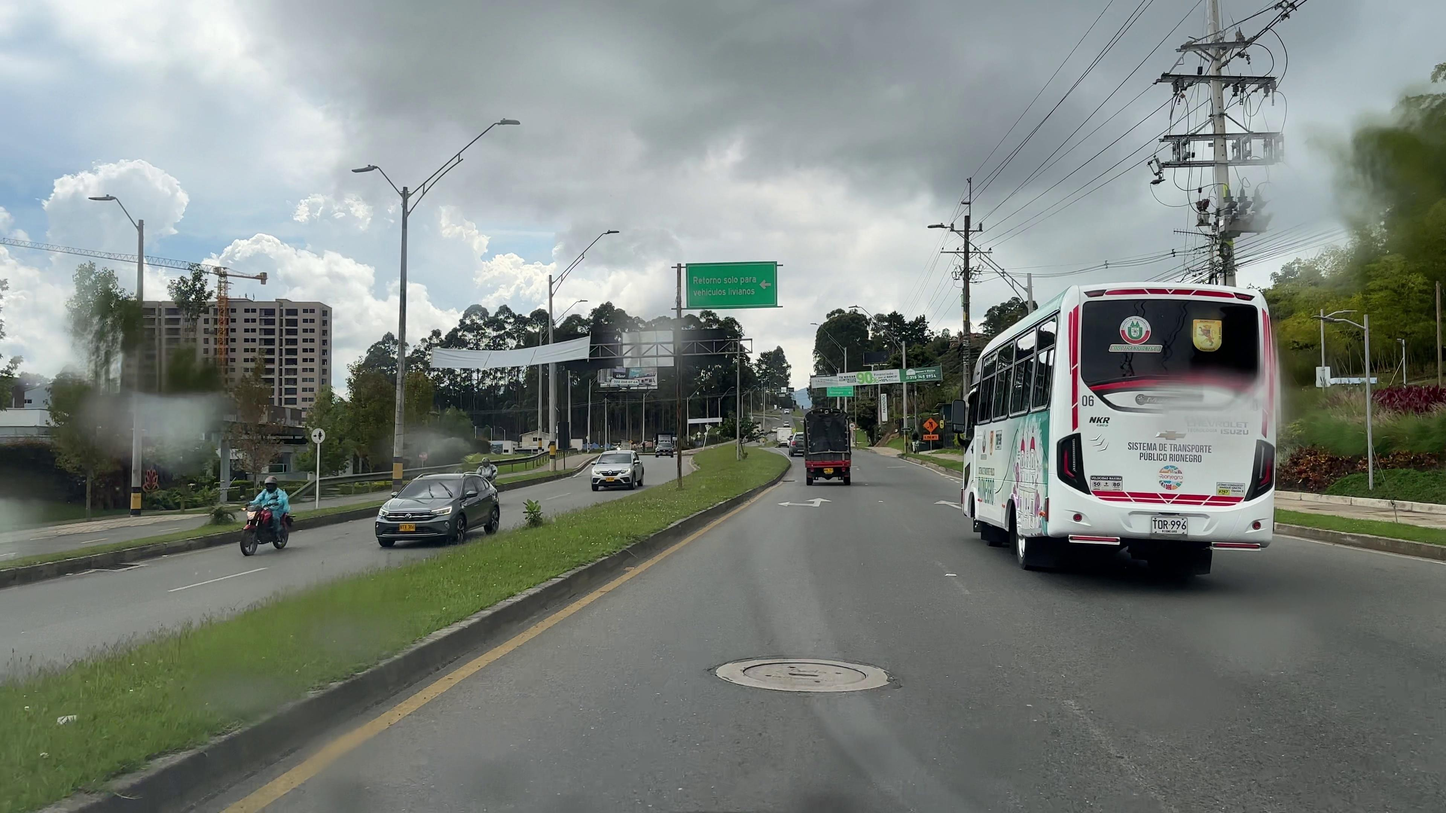registro: (743, 662, 866, 686)
